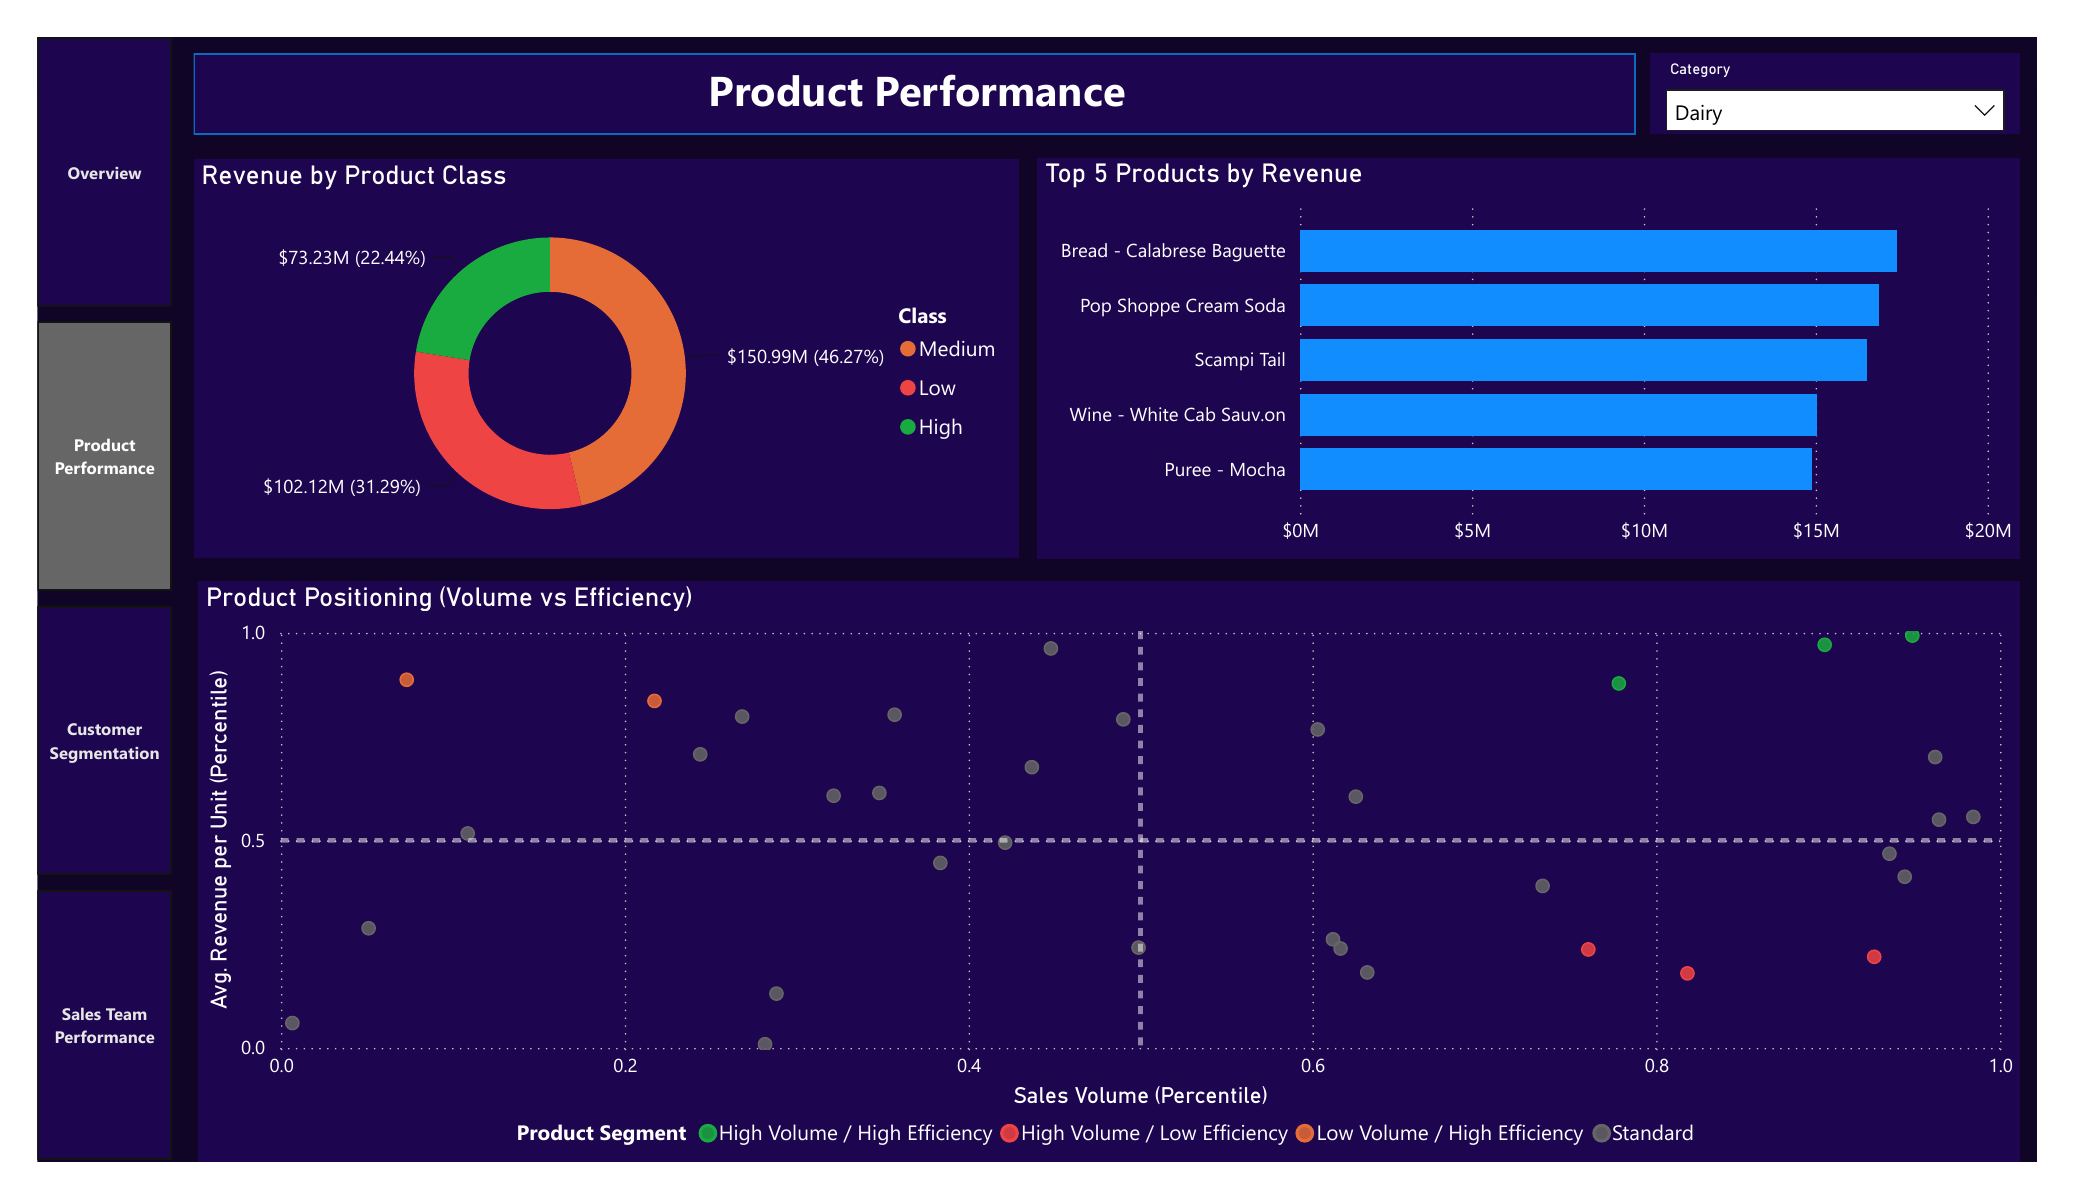

Layout of this report page (visuals, bound fields, positions):
{"tool":"powerbi","page":{"name":"Product Performance","canvas":[1280,720],"ordinal":1},"visuals":[{"type":"pageNavigator","box":[0,0,86.2,720],"z":0},{"type":"shape","box":[100,10,923.3,52],"z":0,"group":"g1"},{"type":"textbox","box":[104,10,918.4,52.2],"z":1000,"group":"g1"},{"type":"slicer","fields":{"Values":["Dim_Category.categoryname"]},"box":[1032.2,10,236.7,52.2],"z":1000},{"type":"clusteredBarChart","title":"Top 5 Products by Revenue","fields":{"Category":["fmcg vw_product_performance.productname"],"Y":["Sum(fmcg vw_product_performance.total_revenue)"]},"box":[640.5,77.3,628.2,256.4],"z":2000},{"type":"scatterChart","title":"Product Positioning (Volume vs Efficiency)","fields":{"X":["Avg(fmcg vw_product_segment.quantity_percentile)"],"Y":["Avg(fmcg vw_product_segment.avg_revenue_per_unit_percentile)"],"Series":["fmcg vw_product_segment.product_segment"],"Category":["fmcg vw_product_segment.productname"]},"box":[102.7,348.2,1166.4,371.8],"z":3000},{"type":"donutChart","title":"Revenue by Product Class","fields":{"Category":["fmcg vw_class_performance.class"],"Y":["Sum(fmcg vw_class_performance.total_revenue)"]},"box":[100,77.5,527.5,255.6],"z":4000},{"type":"group","id":"g1","title":"Group 3","box":[100,10,923.3,52.2],"z":5000}]}

Visuals, with their boxes on the page's 1280x720 design canvas (x1, y1, x2, y2). These are canvas units, not pixel positions in the 2075x1200 screenshot, which may show the page scaled, cropped or inside an application window:
pageNavigator: box=[0, 0, 86, 720]
shape: box=[100, 10, 1023, 62]
textbox: box=[104, 10, 1022, 62]
slicer - Dim_Category.categoryname: box=[1032, 10, 1269, 62]
"Top 5 Products by Revenue" clusteredBarChart: box=[640, 77, 1269, 334]
"Product Positioning (Volume vs Efficiency)" scatterChart: box=[103, 348, 1269, 720]
"Revenue by Product Class" donutChart: box=[100, 78, 628, 333]
"Group 3" group: box=[100, 10, 1023, 62]
